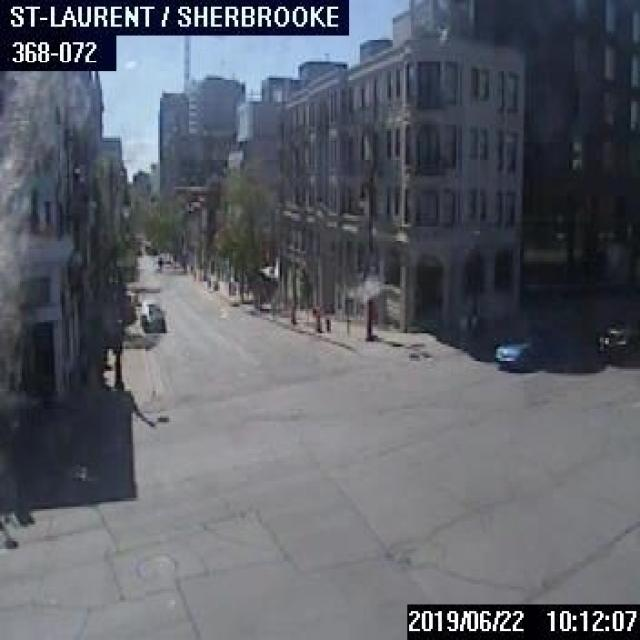vehicle: (493, 333, 545, 371), (595, 318, 638, 358), (138, 300, 164, 333)
